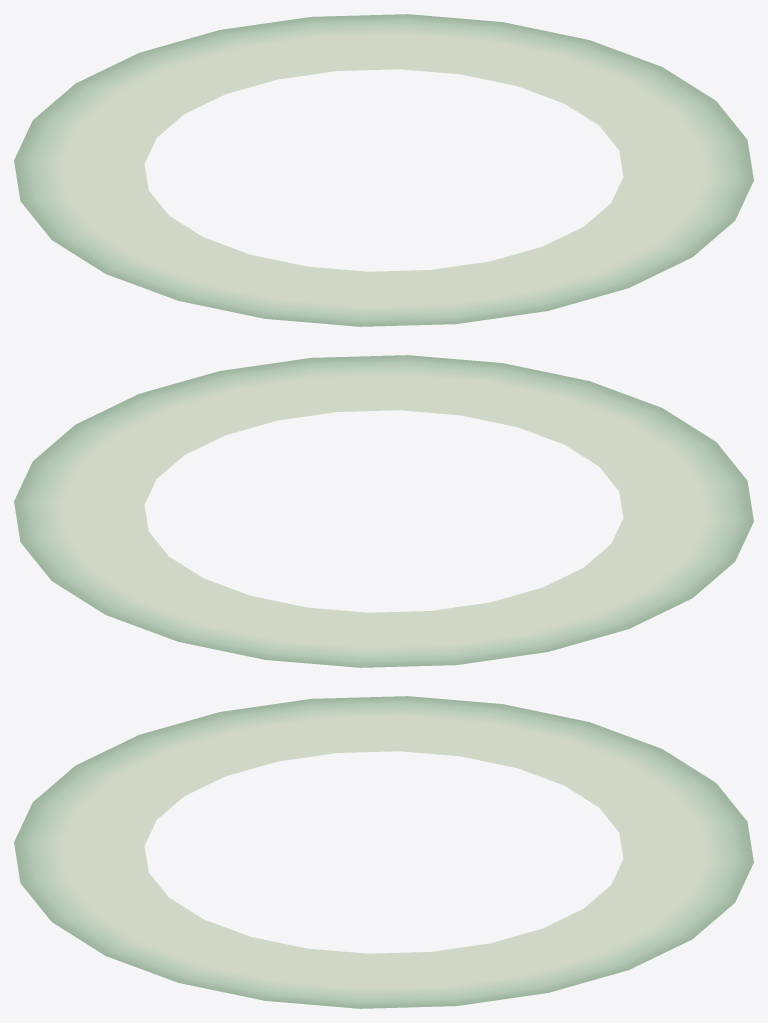
File: zhonglishi_deng.FBX
3 renders of one model, top to bottom at view 1: azimuth 30°, elevation 25°; view 2: azimuth 150°, elevation 25°; view 3: azimuth 270°, elevation 25°, orthographic.
Parts seen in each view (by area): view 1: zhonglishi_deng; view 2: zhonglishi_deng; view 3: zhonglishi_deng.
Part boxes in pixels (box(x1,y1,x2,y2)): zhonglishi_deng: box(14, 14, 753, 326); zhonglishi_deng: box(14, 355, 753, 667); zhonglishi_deng: box(14, 696, 753, 1008).
Bounding box in the file's own units: 515 × 0.000183 × 515.
